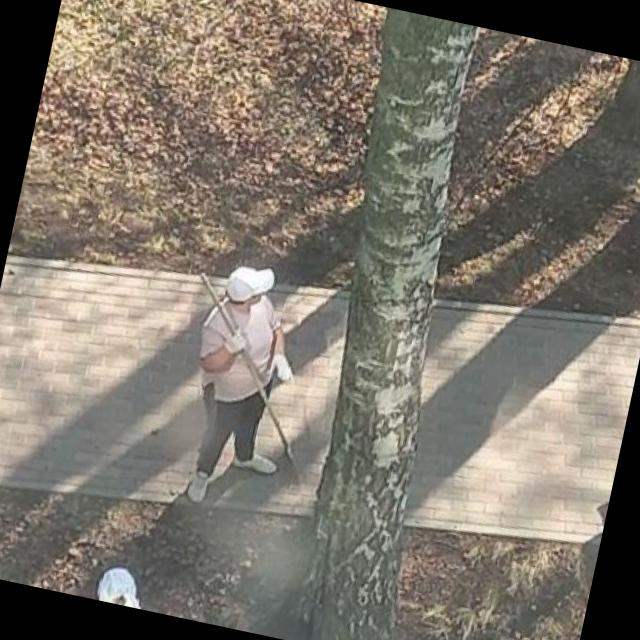hairnet: (223, 263, 274, 300)
